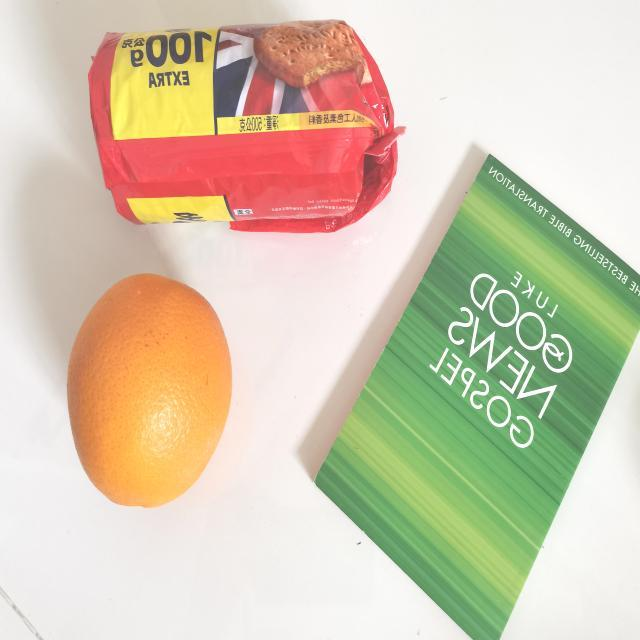orange: (64, 274, 236, 508)
